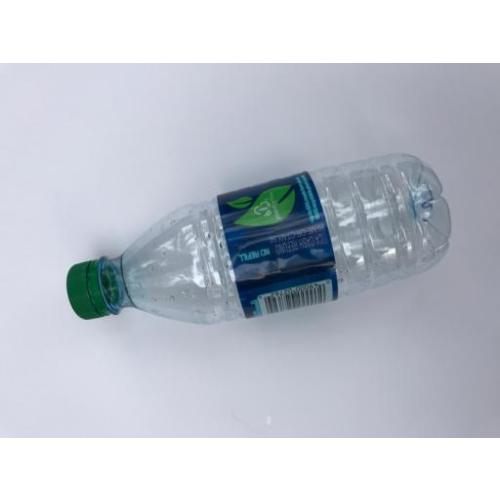plastic: (69, 151, 450, 335)
